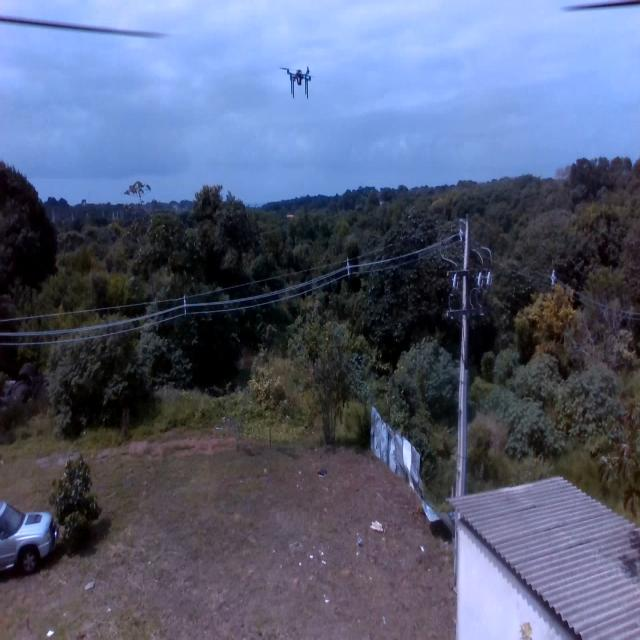-uav-: (276, 56, 317, 107)
